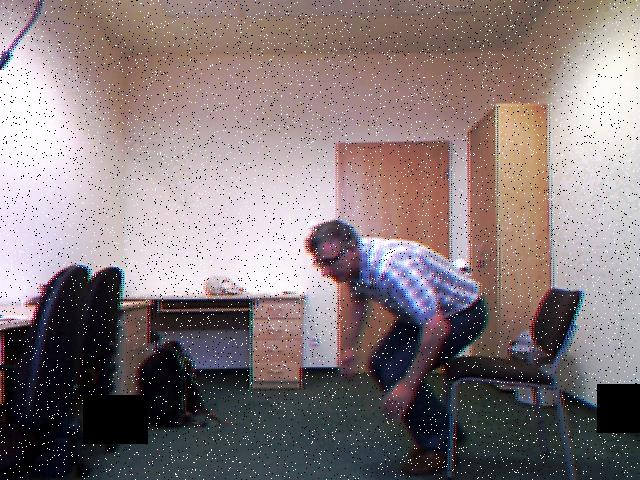near-fall: (307, 195, 500, 480)
